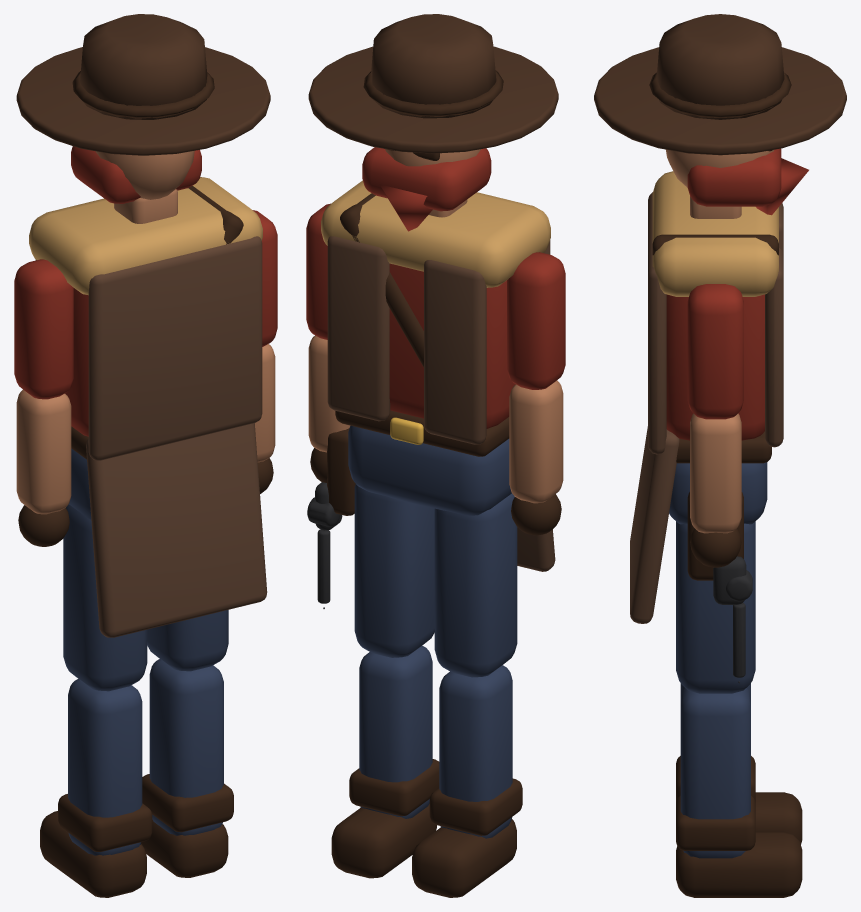
The model's file is bandit.glb.
3 renders of one model, left to right at view 1: azimuth 30°, elevation 25°; view 2: azimuth 150°, elevation 25°; view 3: azimuth 270°, elevation 25°, orthographic.
Visible parts, largest first — view 1: vestback, coat_tail, brim, serape, crown, LegL_shin, LegR_shin, LegL_thigh, ArmL_up, ArmL_low, LegL_boot, LegR_thigh (+13 smaller); view 2: brim, LegL_thigh, LegR_thigh, serape, vest-1, vest1, crown, pelvis, LegL_shin, LegR_shin, ArmL_up, torso (+19 smaller); view 3: brim, serape, crown, LegR_shin, LegR_thigh, ArmR_up, LegR_boot, torso, ArmR_low, coat_tail, bandana, vestback (+15 smaller).
Part boxes in pixels (bbox=[...]): vestback: bbox=[88, 236, 262, 460]; coat_tail: bbox=[86, 423, 267, 637]; brim: bbox=[16, 47, 270, 155]; serape: bbox=[29, 177, 262, 295]; crown: bbox=[80, 14, 207, 119]; LegL_shin: bbox=[68, 679, 142, 855]; LegR_shin: bbox=[149, 659, 223, 835]; LegL_thigh: bbox=[63, 504, 147, 691]; ArmL_up: bbox=[14, 259, 73, 399]; ArmL_low: bbox=[16, 389, 71, 514]; LegL_boot: bbox=[40, 811, 146, 897]; LegR_thigh: bbox=[147, 610, 228, 671]; brim: bbox=[308, 46, 558, 153]; LegL_thigh: bbox=[434, 493, 517, 677]; LegR_thigh: bbox=[354, 484, 434, 657]; serape: bbox=[321, 180, 550, 287]; vest-1: bbox=[424, 260, 486, 444]; vest1: bbox=[327, 236, 390, 421]; crown: bbox=[371, 14, 496, 118]; pelvis: bbox=[348, 425, 511, 515]; LegL_shin: bbox=[439, 665, 512, 838]; LegR_shin: bbox=[359, 645, 432, 818]; ArmL_up: bbox=[507, 252, 565, 389]; torso: bbox=[389, 263, 515, 428]; brim: bbox=[594, 47, 846, 155]; serape: bbox=[652, 171, 778, 296]; crown: bbox=[656, 14, 784, 119]; LegR_shin: bbox=[680, 688, 750, 858]; LegR_thigh: bbox=[676, 521, 755, 693]; ArmR_up: bbox=[687, 284, 743, 419]; LegR_boot: bbox=[676, 831, 802, 897]; torso: bbox=[666, 294, 764, 440]; ArmR_low: bbox=[690, 413, 741, 533]; coat_tail: bbox=[630, 426, 679, 623]; bandana: bbox=[687, 148, 781, 206]; vestback: bbox=[648, 192, 666, 454].
Size of the model in its own units: 0.61 by 1.98 by 0.54.
